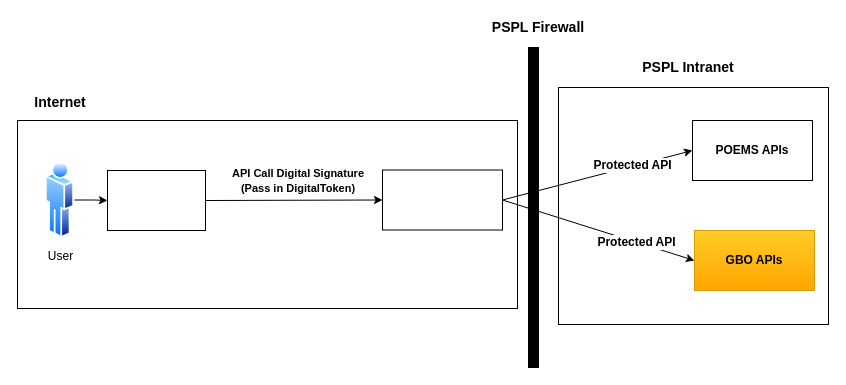
Image size: 846x385. Some labels were removed from this diagram. The box of each missing label's shape, as (x1, y1, x2, y2) in pixels:
POEMS Gateway: (382, 169, 502, 230)
White Label Apps: (106, 170, 206, 230)
